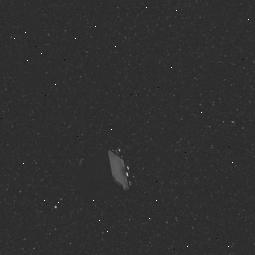proba_3_ocs: (102, 138, 146, 202)
